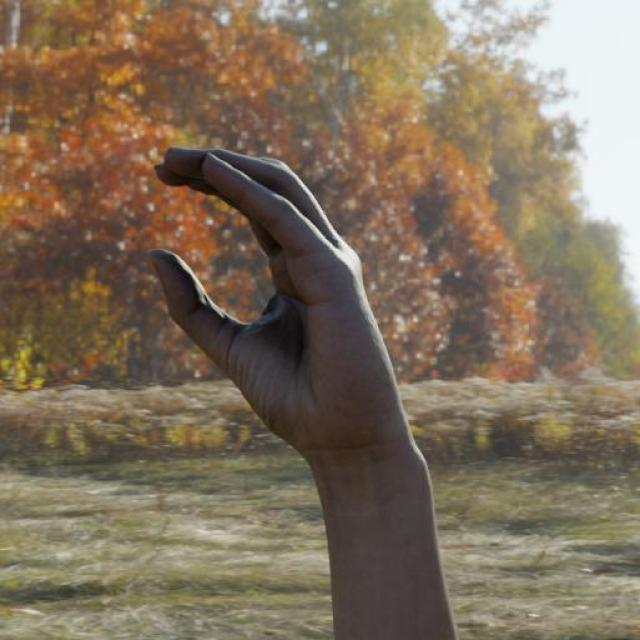C: (148, 144, 418, 448)
